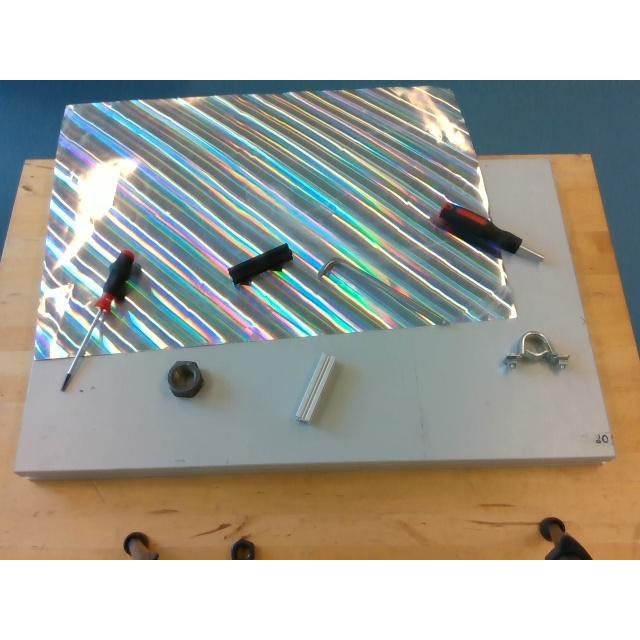AllenKey: (317, 258, 447, 326)
F20_20_B: (227, 243, 293, 285)
F20_20_G: (294, 353, 334, 421)
Housing: (504, 330, 568, 370)
M20: (230, 538, 254, 558)
M30: (167, 360, 203, 396)
